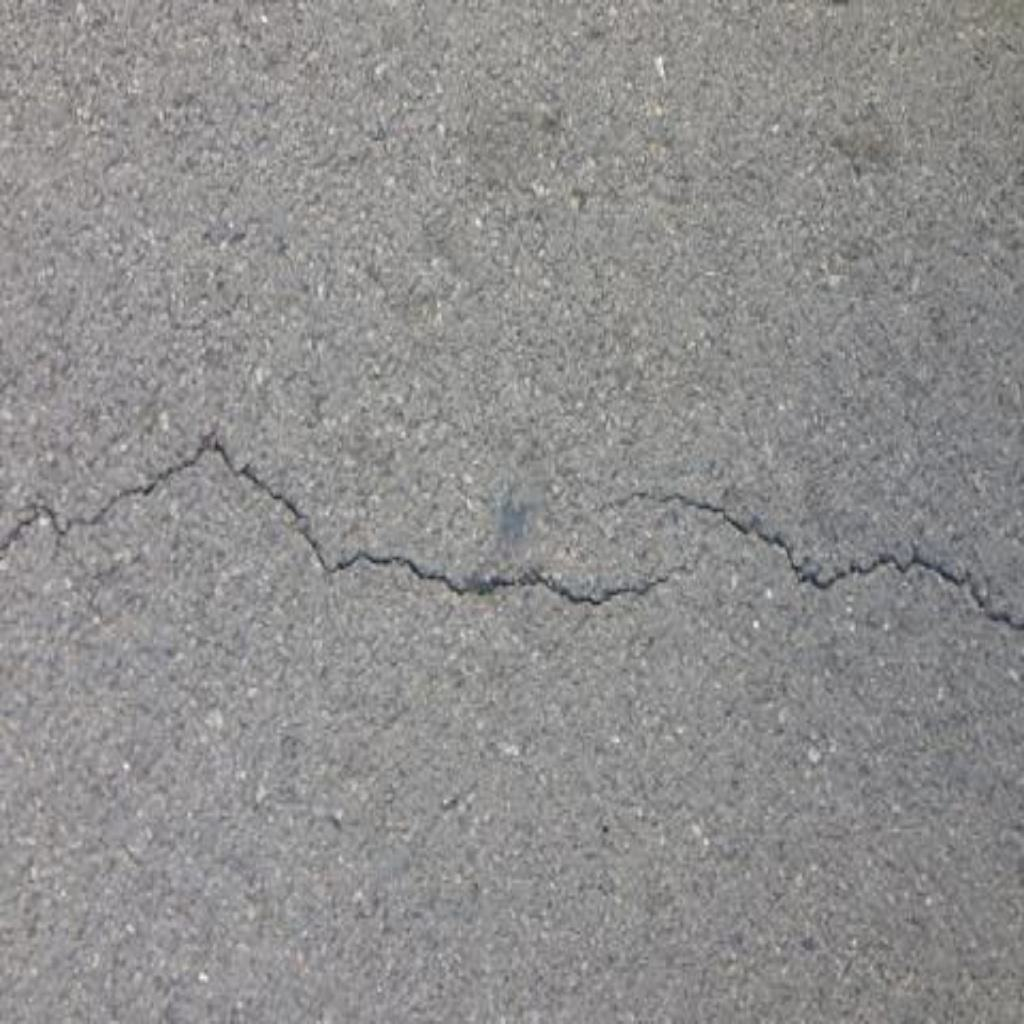Crack: (1, 425, 692, 610), (592, 488, 1024, 634)
